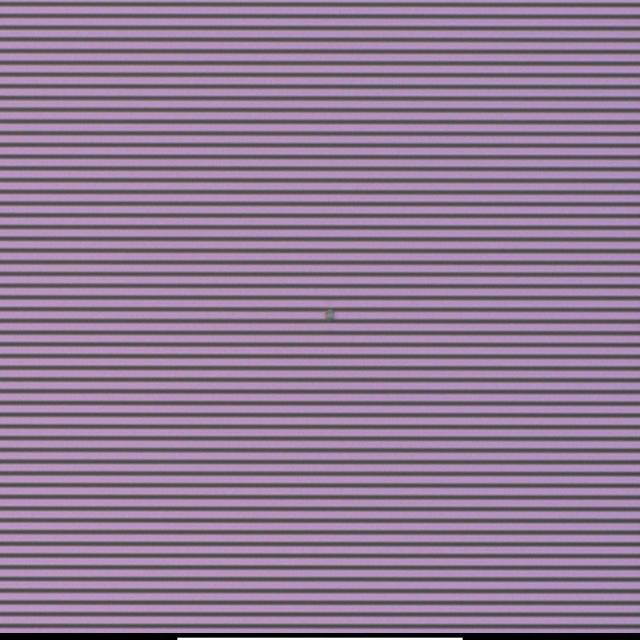nonvisual: (322, 308, 341, 323)
